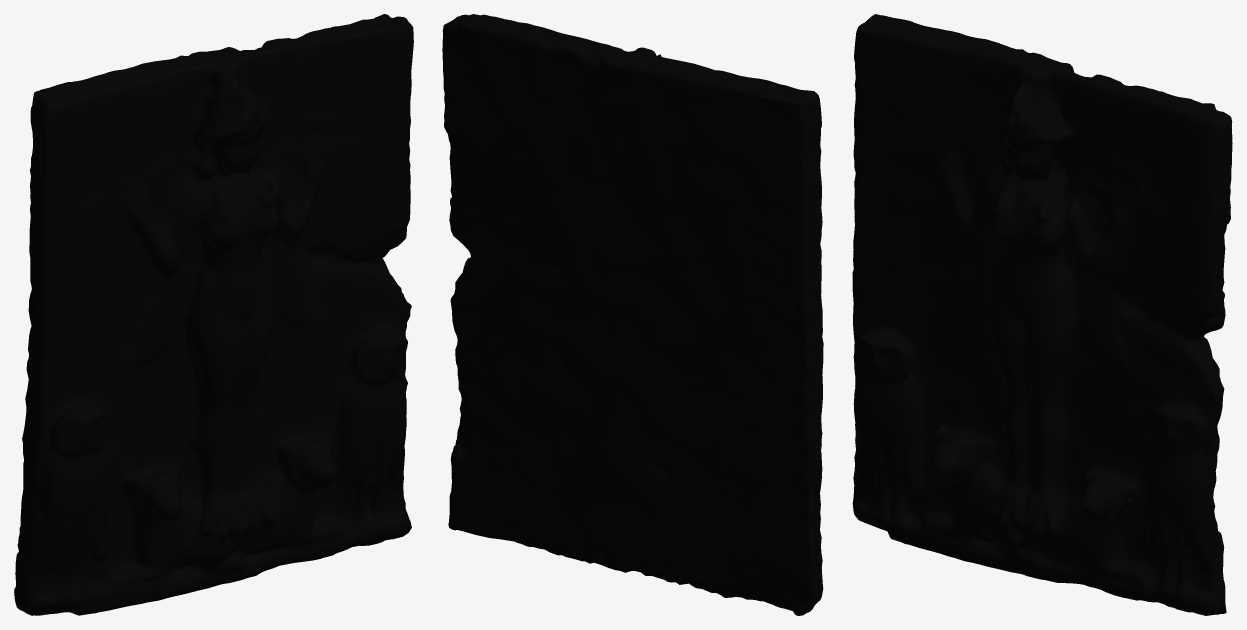
Rendered from m2_veronica_rodriguez.obj.
The picture shows the model from 3 angles, left to right: view 1: azimuth 30°, elevation 25°; view 2: azimuth 150°, elevation 25°; view 3: azimuth 330°, elevation 25°; orthographic projection. The views are drawn at different scales.
Size of the model in its own units: 6.09 by 7.9 by 1.19.
Materials: 1 (1 with a texture image).
